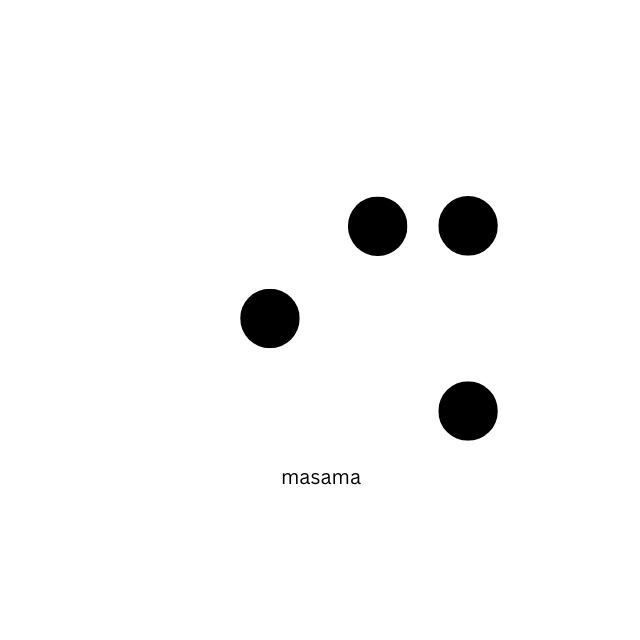dot_5: (133, 195, 301, 446)
two_cell_non_alphabet_masama: (347, 195, 498, 441)
